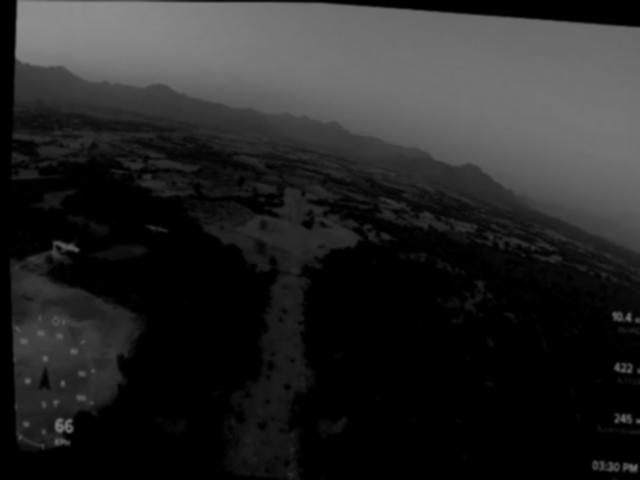hedef: (45, 229, 85, 263)
